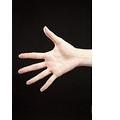pa-: (17, 25, 76, 94)
